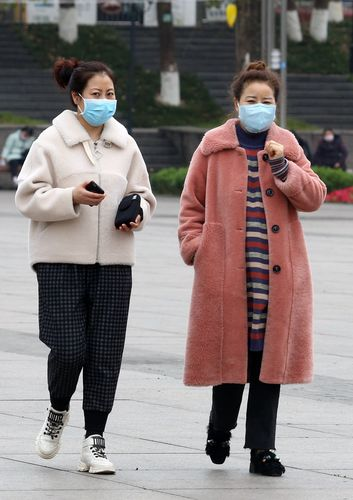mask: (77, 70, 122, 128), (238, 78, 278, 133)
